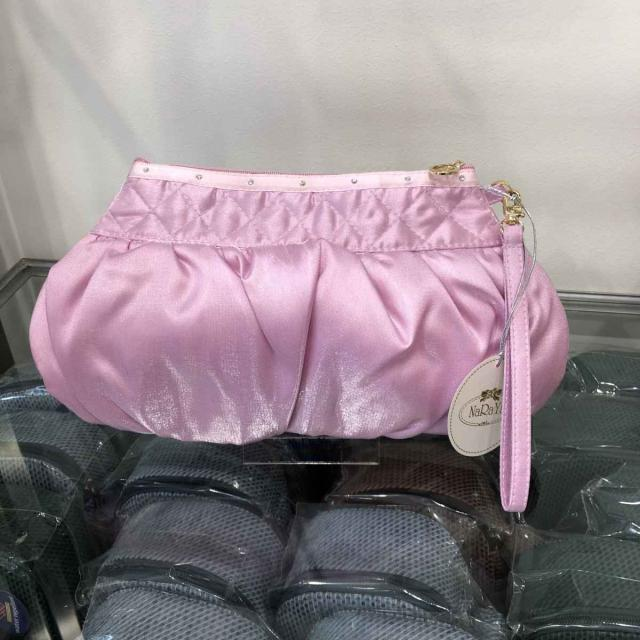Handbag: (19, 143, 580, 451)
